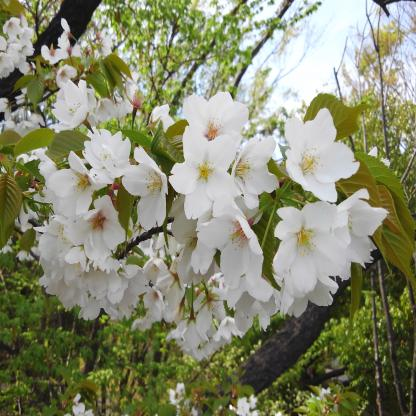OshimaSakura: (0, 19, 389, 357)
